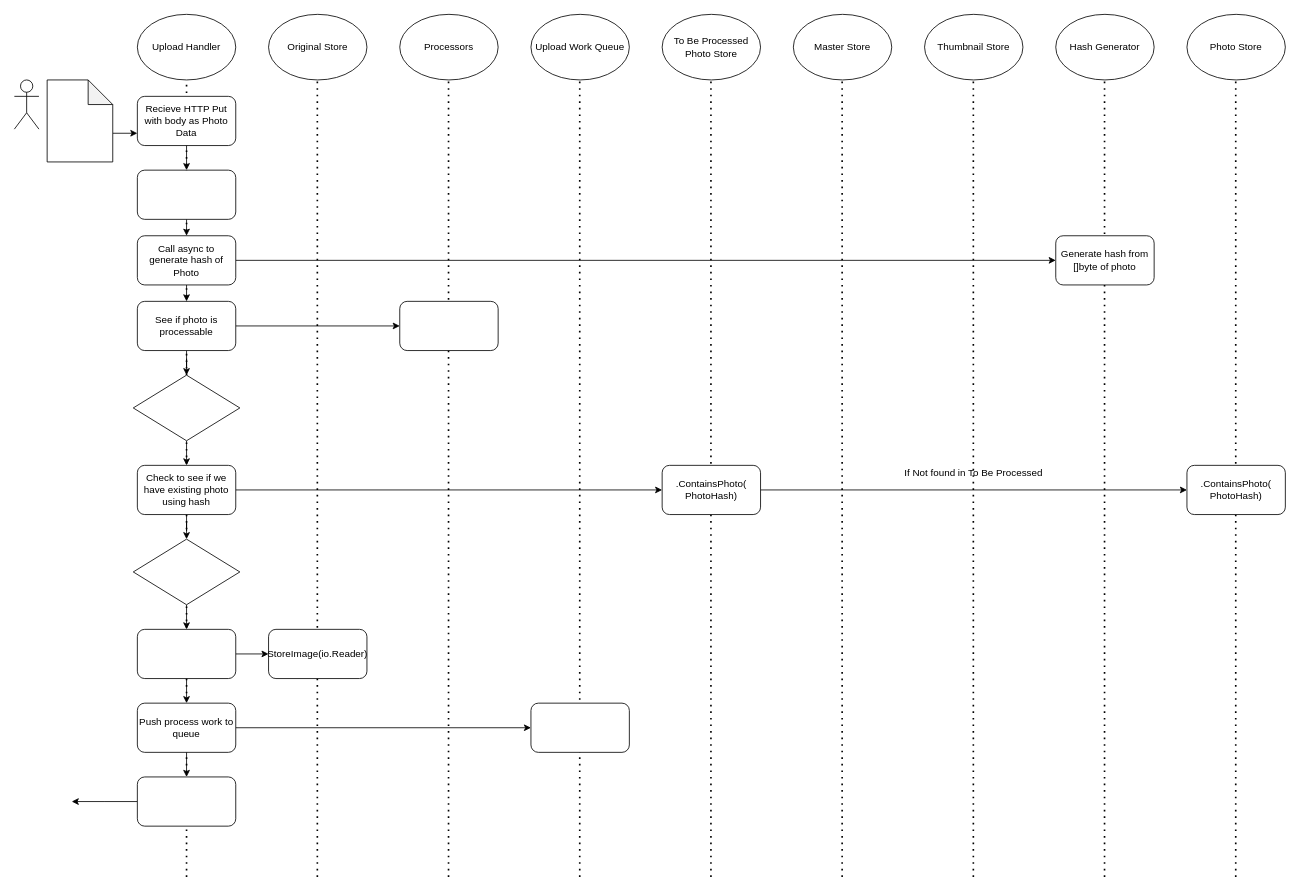
This 1300x893 diagram has some shape labels left out. The shapes that lost their labels are listed below. From the top down, each one's box as (x1, y1, x2, y2) in pixels, then its label:
(14, 79, 39, 129): Actor
(46, 79, 113, 162): Photo Data via HTTP Put
(137, 169, 236, 219): Gulp Body into []byte and close Body
(399, 301, 498, 351): Check if there is a processor that can process photo
(132, 374, 240, 441): Has hash generated- If photo is processable
(132, 538, 240, 605): No existing Photo
(137, 629, 236, 679): Save Original
(530, 702, 629, 752): Save Work to Queue
(137, 776, 236, 826): Asuming that stuff didn't hit the fan LOL then return PhotoHash
